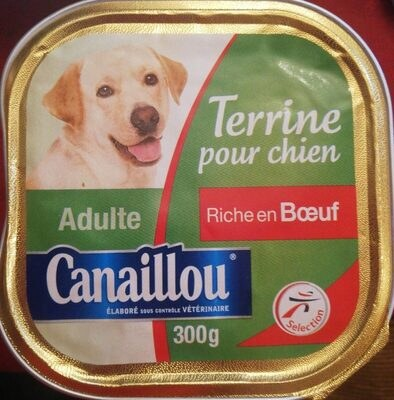Terrine pour chien riche en boeuf: (20, 20, 374, 380)
